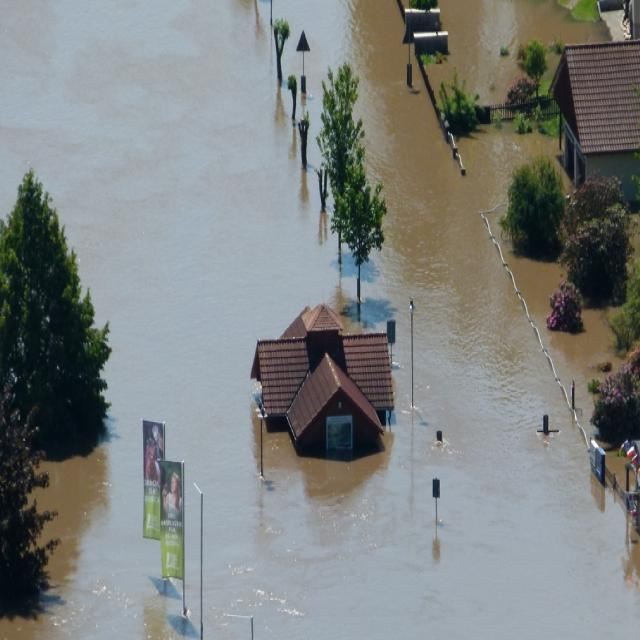flood: (0, 0, 640, 640), (502, 240, 624, 430), (428, 0, 610, 102)
house: (253, 304, 403, 461), (552, 35, 639, 185), (402, 1, 446, 56)
